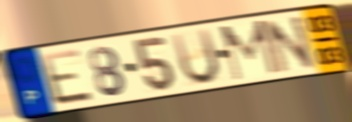5: (130, 35, 176, 93)
8: (89, 45, 127, 99)
E: (37, 46, 97, 108)
M: (217, 18, 281, 84)
N: (261, 13, 319, 75)
U: (169, 26, 223, 88)
